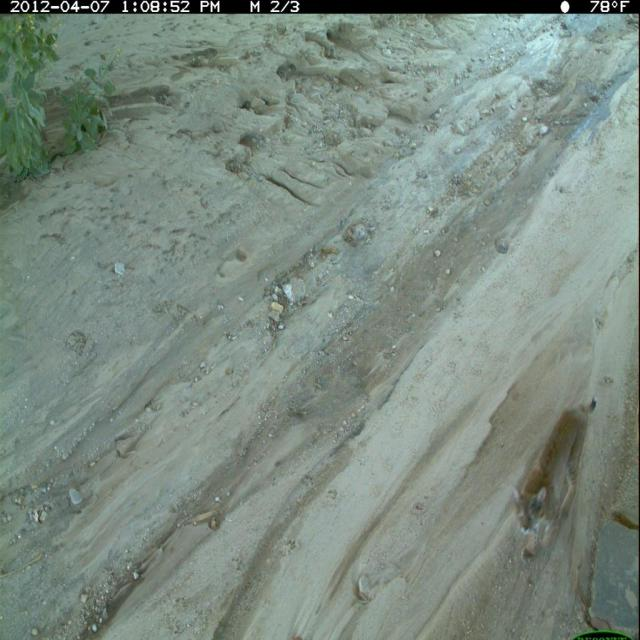bobcat: (510, 388, 601, 568)
